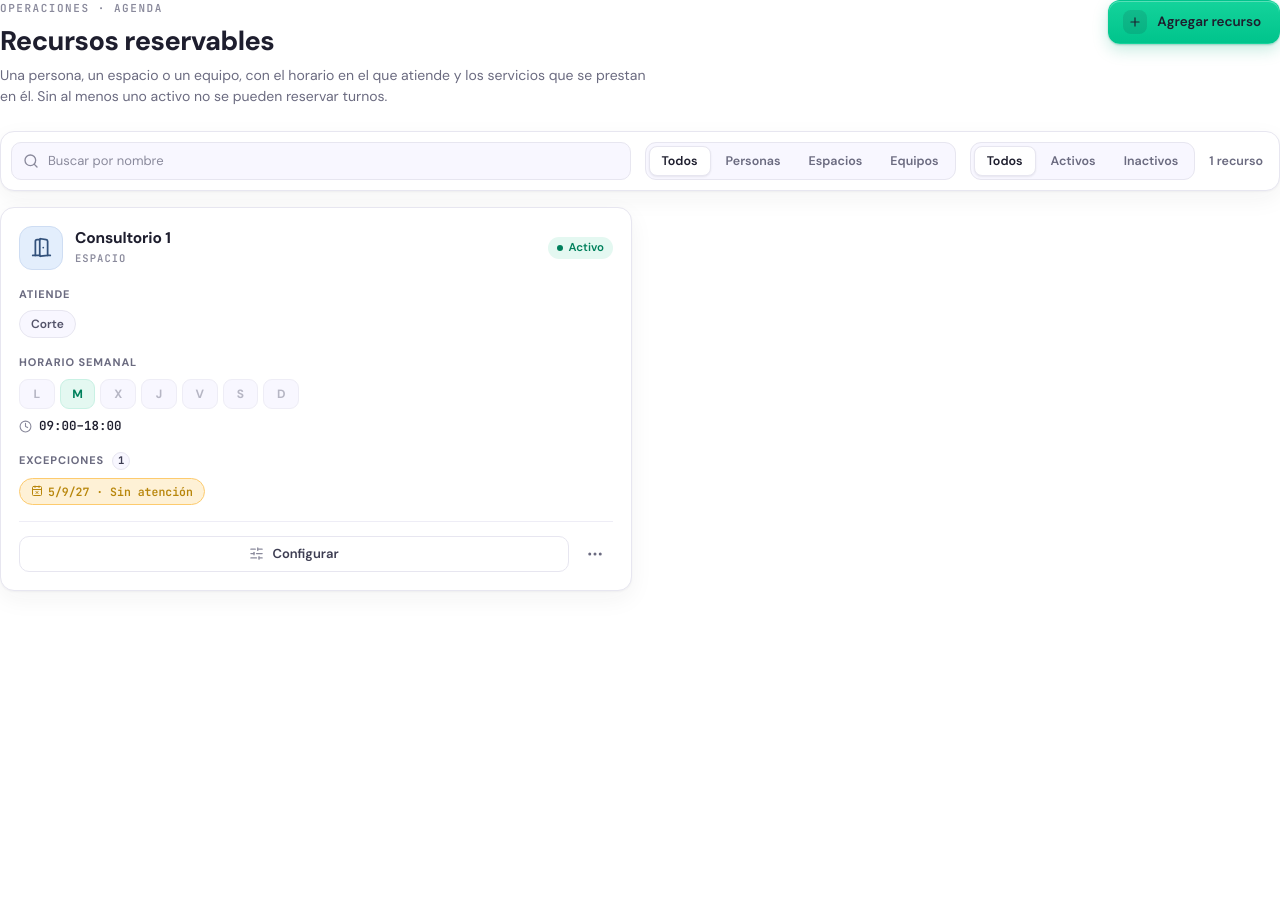
Scenario: PAN-AGE-03 › rotula el paso de la grilla como duracion del slot y no como minutos por turno (D96)
Click the button "Configurar".
click(294, 554)  # box [19,536,569,572]
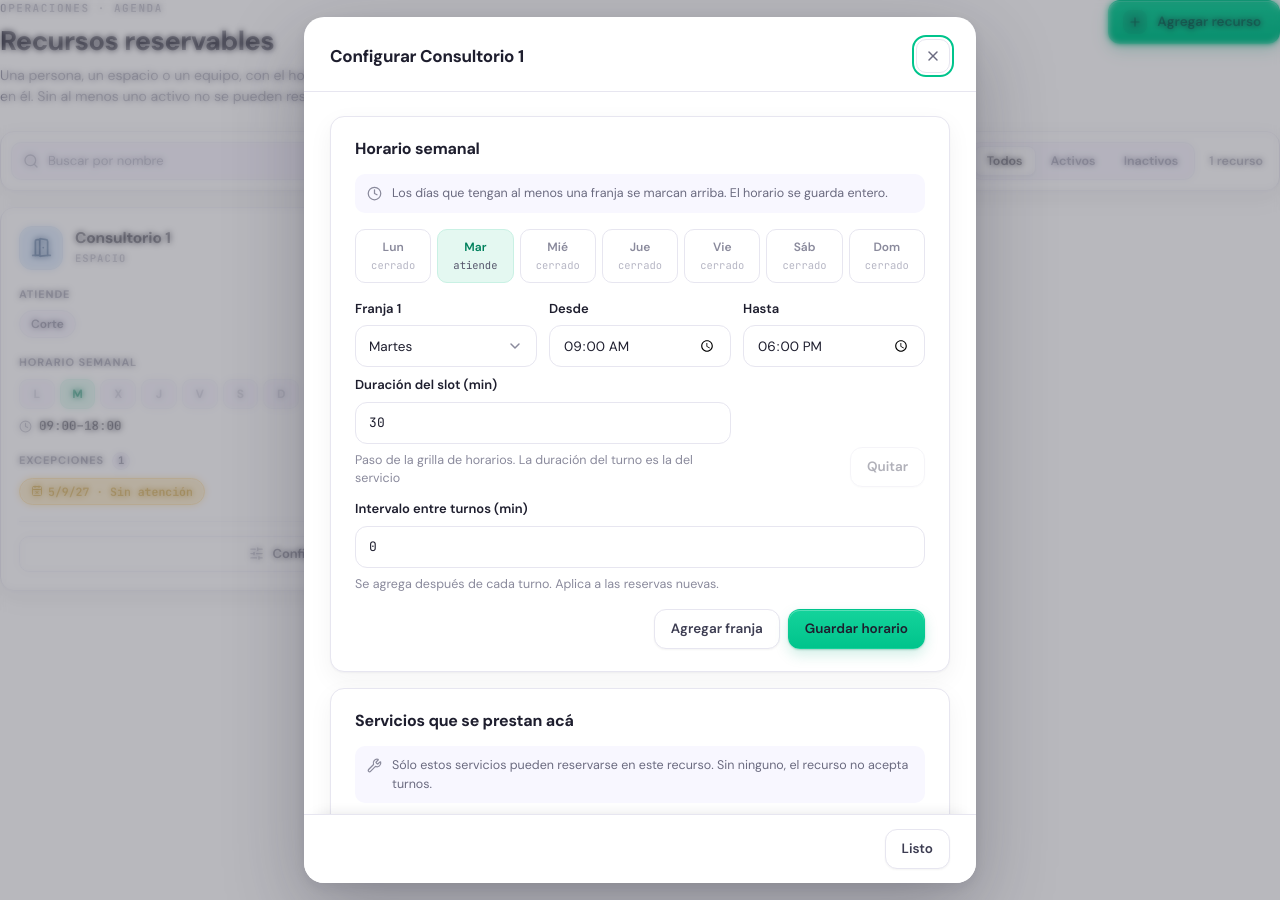
Expected: the field labelled "Duración del slot (min)" is shown, [355,402,731,444]
Expected: the text "La duración del turno es la del servicio" is shown, [355,452,693,486]
